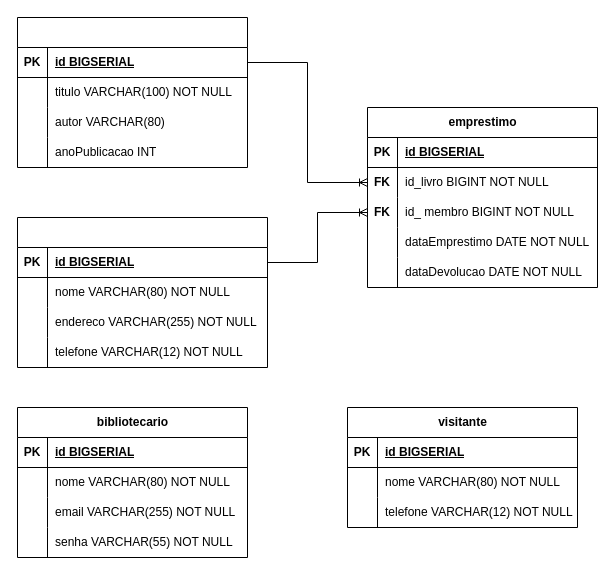
The diagram is 615 pixels wide and 575 high, and some of its shapes have lost their labels. The shapes that lost their labels are listed below. From the top down, each one's box as (x1, y1, x2, y2) in pixels, then its label:
(16, 16, 248, 168): livro
(16, 216, 268, 368): membro
